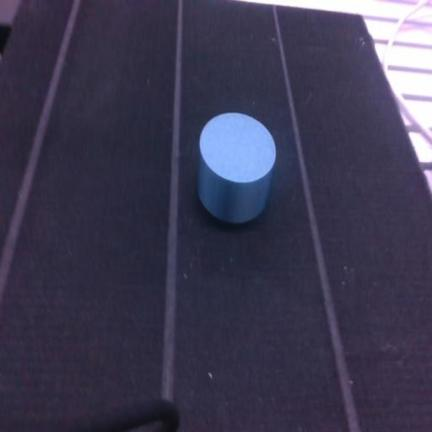cylinder: (197, 112, 275, 223), (199, 114, 275, 223)
